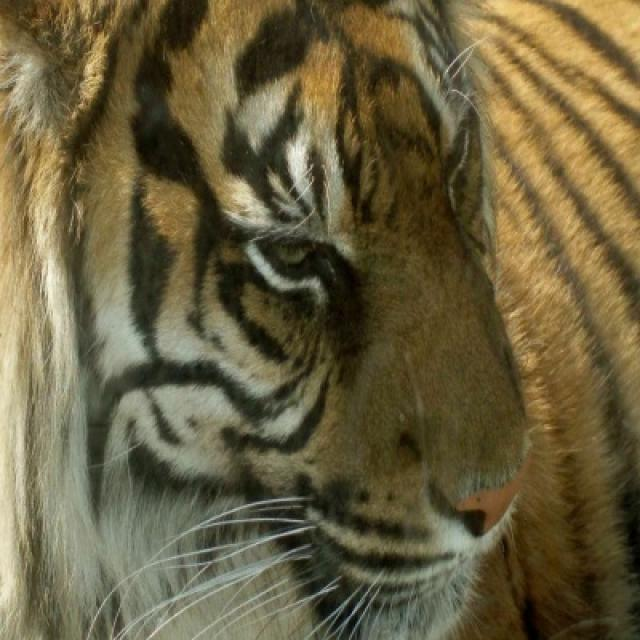Tiger: (68, 19, 552, 638)
